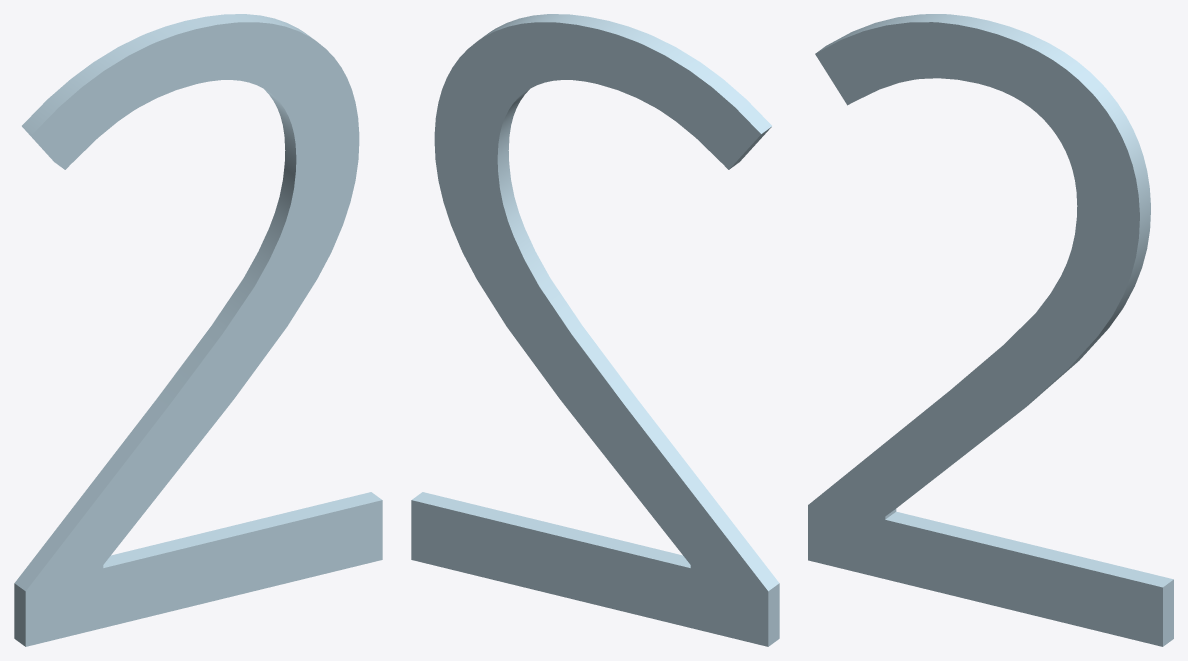
3 renders of one model, left to right at view 1: azimuth 30°, elevation 25°; view 2: azimuth 150°, elevation 25°; view 3: azimuth 330°, elevation 25°, orthographic.
Parts seen in each view (by area): view 1: 2; view 2: 2; view 3: 2.
Boxes of the visible parts, box(x1,y1,x2,y2) form: 2: box(14, 14, 382, 646); 2: box(411, 14, 779, 646); 2: box(808, 14, 1173, 646).
Bounding box in the file's own units: 0.0369 × 0.0569 × 0.002.
